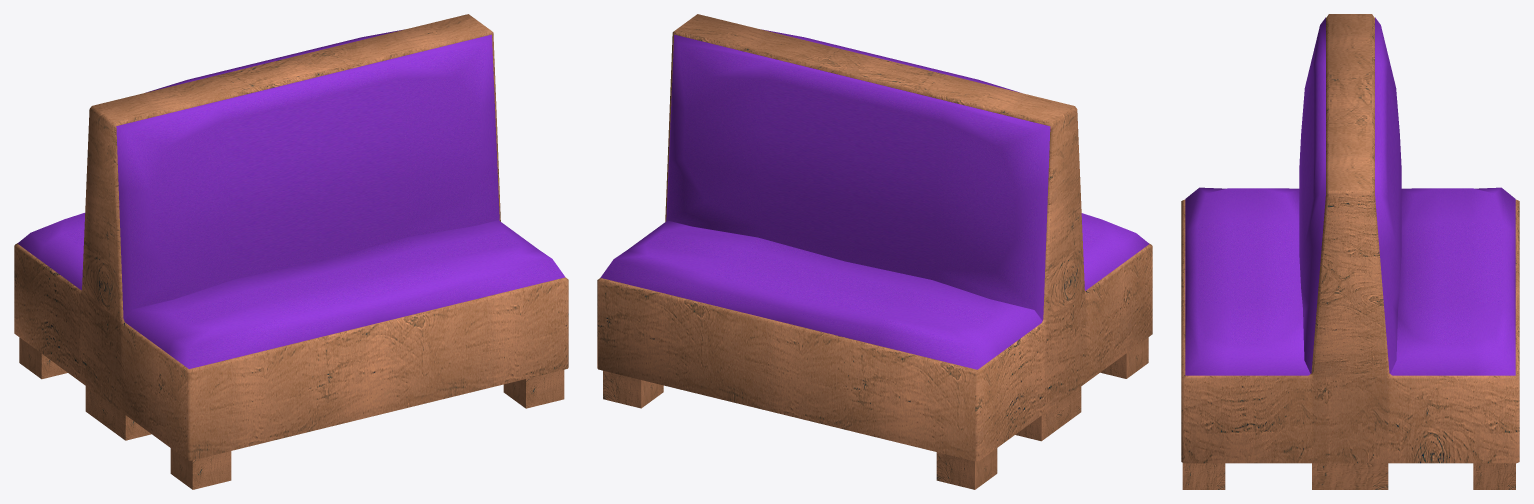
File: DBooth Purple.fbx
3 views of the same model, side by side, from view 1: azimuth 30°, elevation 25°; view 2: azimuth 150°, elevation 25°; view 3: azimuth 270°, elevation 25° (orthographic). The views are drawn at different scales.
Visible parts, largest first — view 1: DBooth Purple; view 2: DBooth Purple; view 3: DBooth Purple.
Part boxes in pixels (x1=…): DBooth Purple: x1=14, y1=14, x2=568, y2=489; DBooth Purple: x1=597, y1=14, x2=1152, y2=489; DBooth Purple: x1=1181, y1=14, x2=1519, y2=489.
Size of the model in its own units: 91.28 by 71.5 by 72.96.
